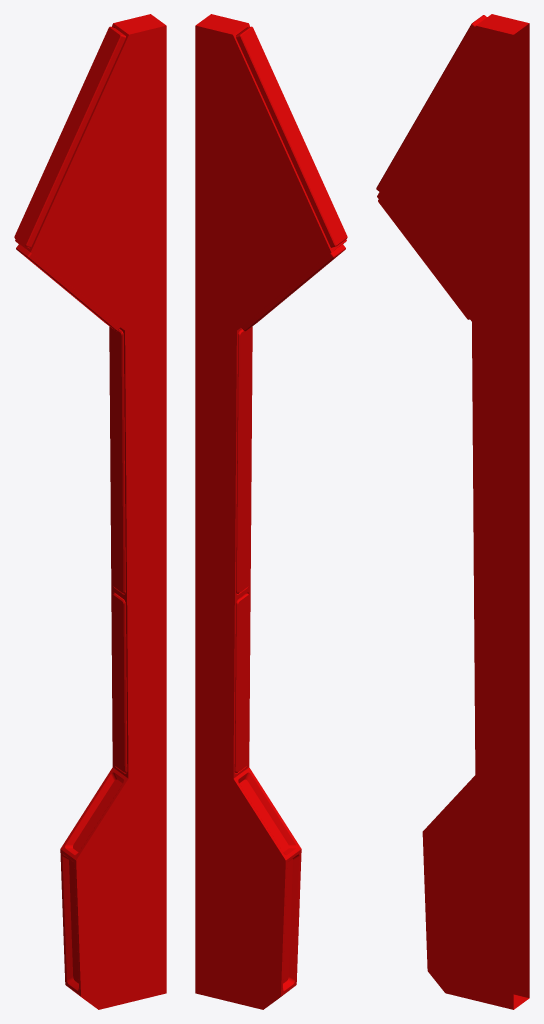
File: Wall_9.fbx
3 views of the same model, side by side, from view 1: azimuth 30°, elevation 25°; view 2: azimuth 150°, elevation 25°; view 3: azimuth 330°, elevation 25° (orthographic).
Parts seen in each view (by area): view 1: L:pCube92; view 2: L:pCube92; view 3: L:pCube92.
Boxes of the visible parts, x1,y1,x2,y2 form: L:pCube92: (14, 14, 166, 1009); L:pCube92: (195, 14, 347, 1009); L:pCube92: (376, 14, 529, 1009).
Bounding box in the file's own units: 114 × 761 × 22.51.
